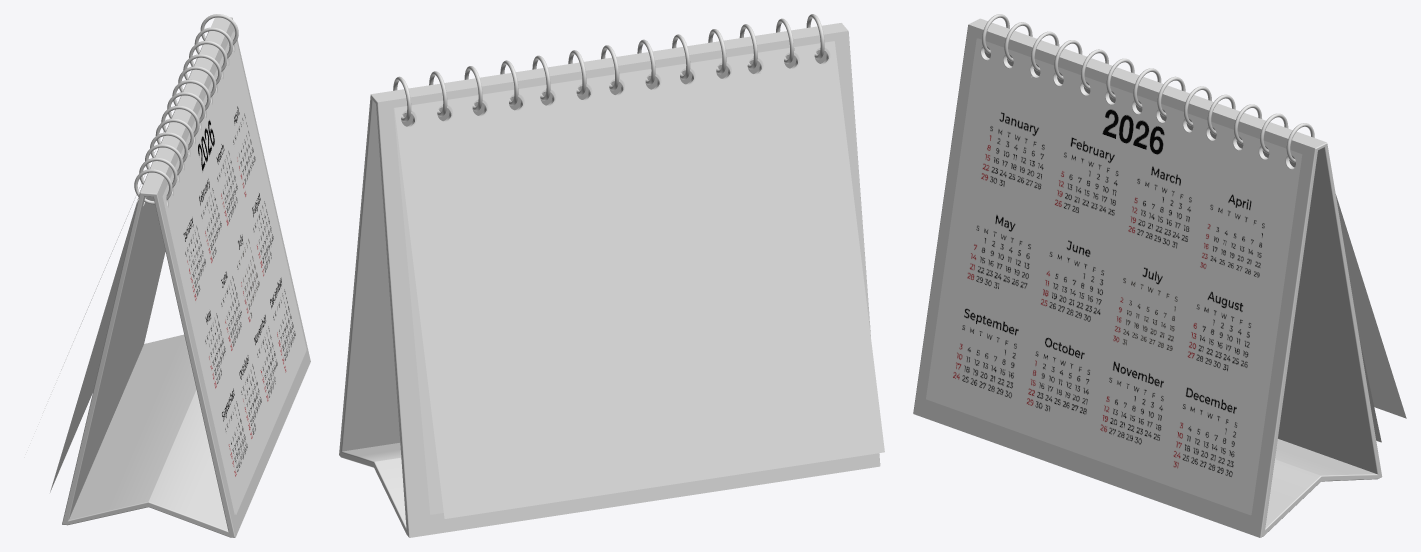
The model's file is calendar.gltf.
The picture shows the model from 3 angles, left to right: view 1: azimuth 30°, elevation 25°; view 2: azimuth 150°, elevation 25°; view 3: azimuth 270°, elevation 25°; orthographic projection. The views are drawn at different scales.
Parts seen in each view (by area): view 1: Boole, Boole_4, Sweep_12, Boole_5, Boole_3; view 2: Boole_6, Boole, Sweep_12, Boole_5; view 3: Boole_4, Boole, Boole_6, Sweep_12, Boole_3.
Part boxes in pixels (<box>): Boole: <box>62,17,310,537</box>; Boole_4: <box>164,32,306,514</box>; Sweep_12: <box>134,14,238,204</box>; Boole_5: <box>50,31,208,492</box>; Boole_3: <box>163,31,236,514</box>; Boole_6: <box>394,41,884,518</box>; Boole: <box>339,23,880,537</box>; Sweep_12: <box>393,14,824,121</box>; Boole_5: <box>393,41,833,514</box>; Boole_4: <box>926,39,1301,515</box>; Boole: <box>913,18,1382,537</box>; Boole_6: <box>1335,194,1406,418</box>; Sweep_12: <box>981,14,1314,162</box>; Boole_3: <box>977,38,1301,514</box>.
Bounding box in the file's own units: 37.53 × 33.15 × 39.42.
4 materials, 1 textured.
